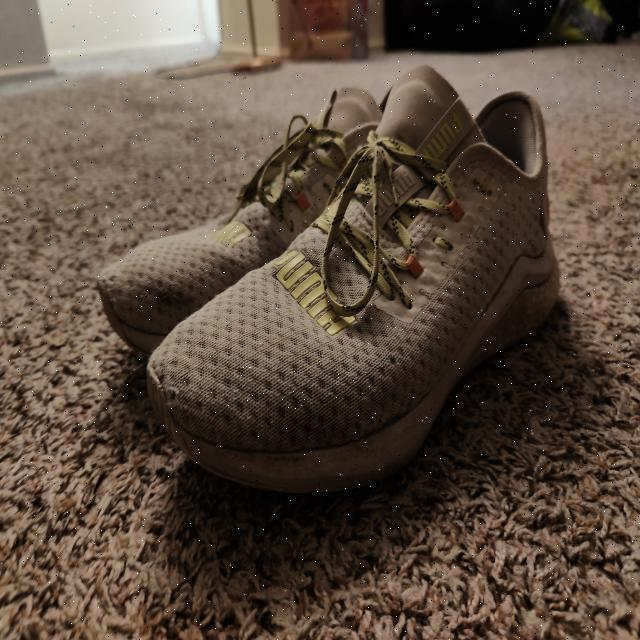white shoes: (168, 258, 404, 378)
